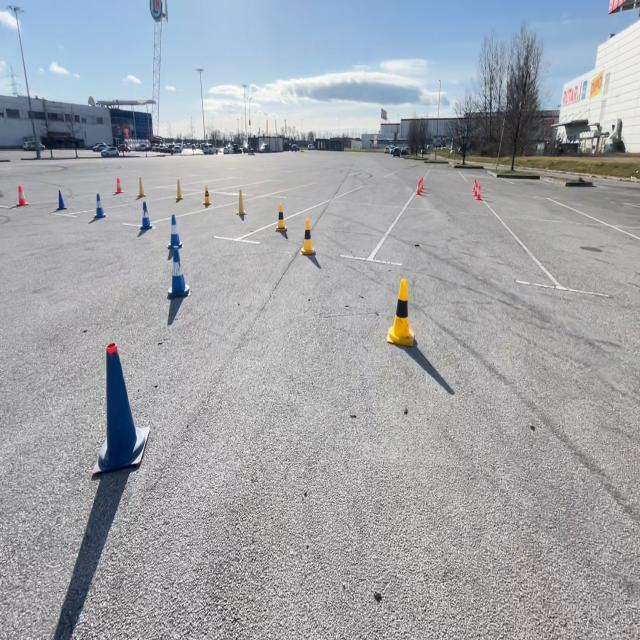blue_cone: (90, 339, 147, 474), (165, 213, 190, 298), (137, 198, 152, 236), (94, 188, 105, 218), (54, 188, 67, 211)
orange_cone: (16, 183, 28, 206), (114, 176, 124, 194), (415, 176, 424, 194), (473, 179, 481, 198)
yellow_cone: (385, 276, 415, 346), (300, 216, 316, 256), (275, 200, 288, 233), (235, 188, 247, 220), (202, 182, 213, 207), (174, 176, 184, 201), (136, 175, 146, 198)
